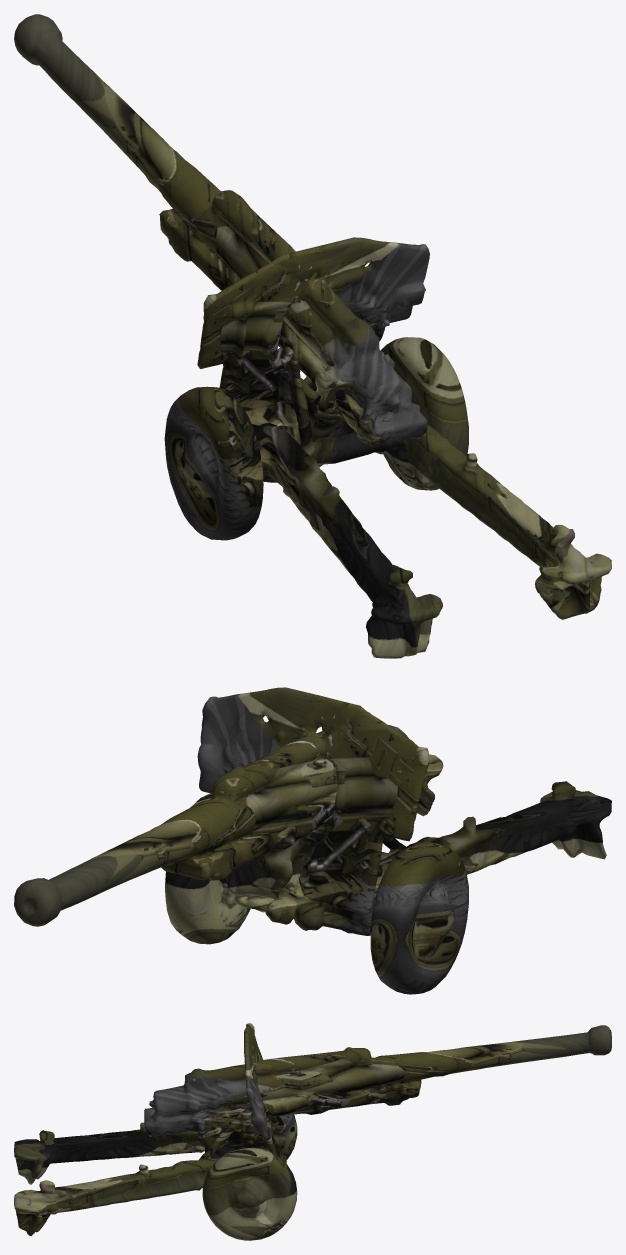
The model's file is artillery.glb.
3 renders of one model, top to bottom at view 1: azimuth 30°, elevation 25°; view 2: azimuth 150°, elevation 25°; view 3: azimuth 270°, elevation 25°, orthographic. The views are drawn at different scales.
Visible parts, largest first — view 1: geometry_0; view 2: geometry_0; view 3: geometry_0.
Boxes of the visible parts, box(x1,y1,x2,y2) form: geometry_0: box(14, 14, 611, 658); geometry_0: box(14, 687, 611, 994); geometry_0: box(14, 1023, 611, 1240).
Bounding box in the file's own units: 0.6362 × 0.6622 × 1.99.
1 material, 1 textured.
